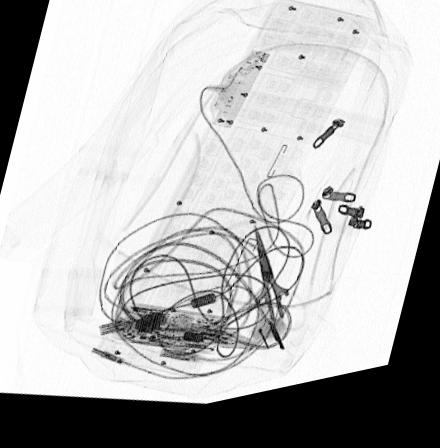Scissors: (241, 235, 310, 354)
